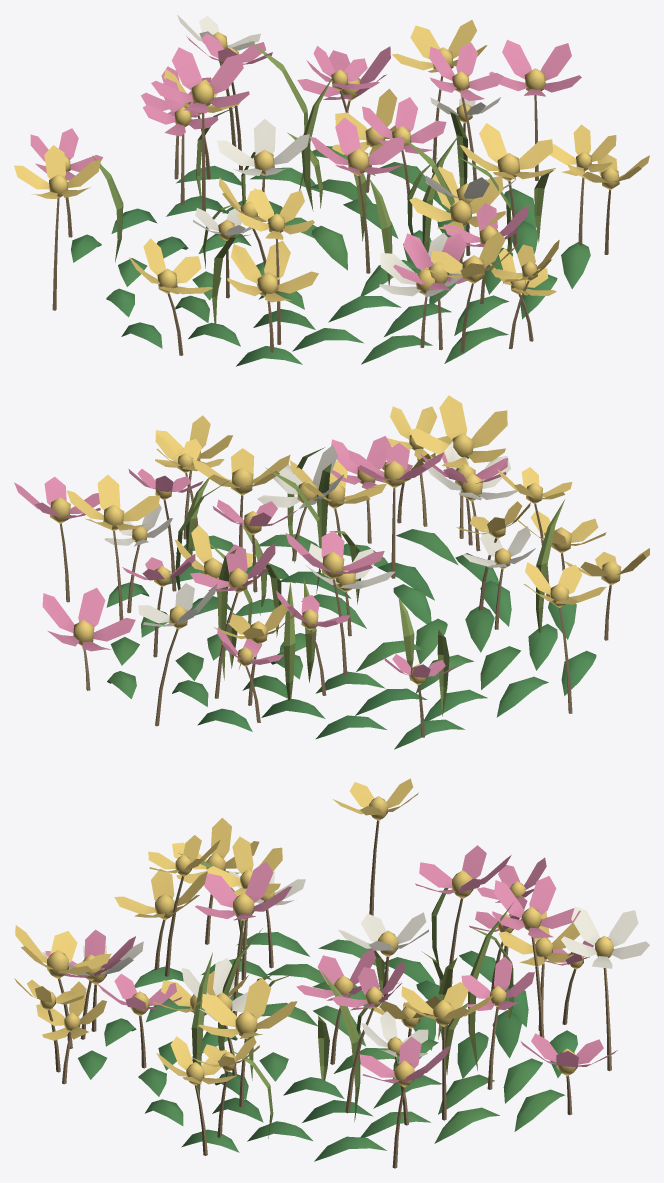
Rendered from flower_patch.glb.
The picture shows the model from 3 angles, top to bottom: view 1: azimuth 30°, elevation 25°; view 2: azimuth 150°, elevation 25°; view 3: azimuth 270°, elevation 25°; orthographic projection.
Visible parts, largest first — view 1: flower_patch; view 2: flower_patch; view 3: flower_patch.
Part boxes in pixels (box(x1,y1,x2,y2)): flower_patch: box(14, 15, 649, 366); flower_patch: box(14, 395, 649, 749); flower_patch: box(14, 778, 649, 1168).
Size of the model in its own units: 1.6 by 0.4824 by 1.55.
